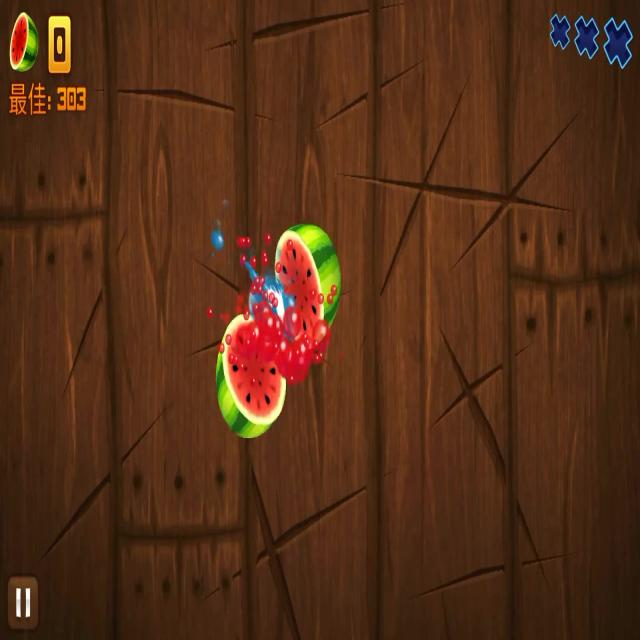fruit: (214, 217, 342, 444)
